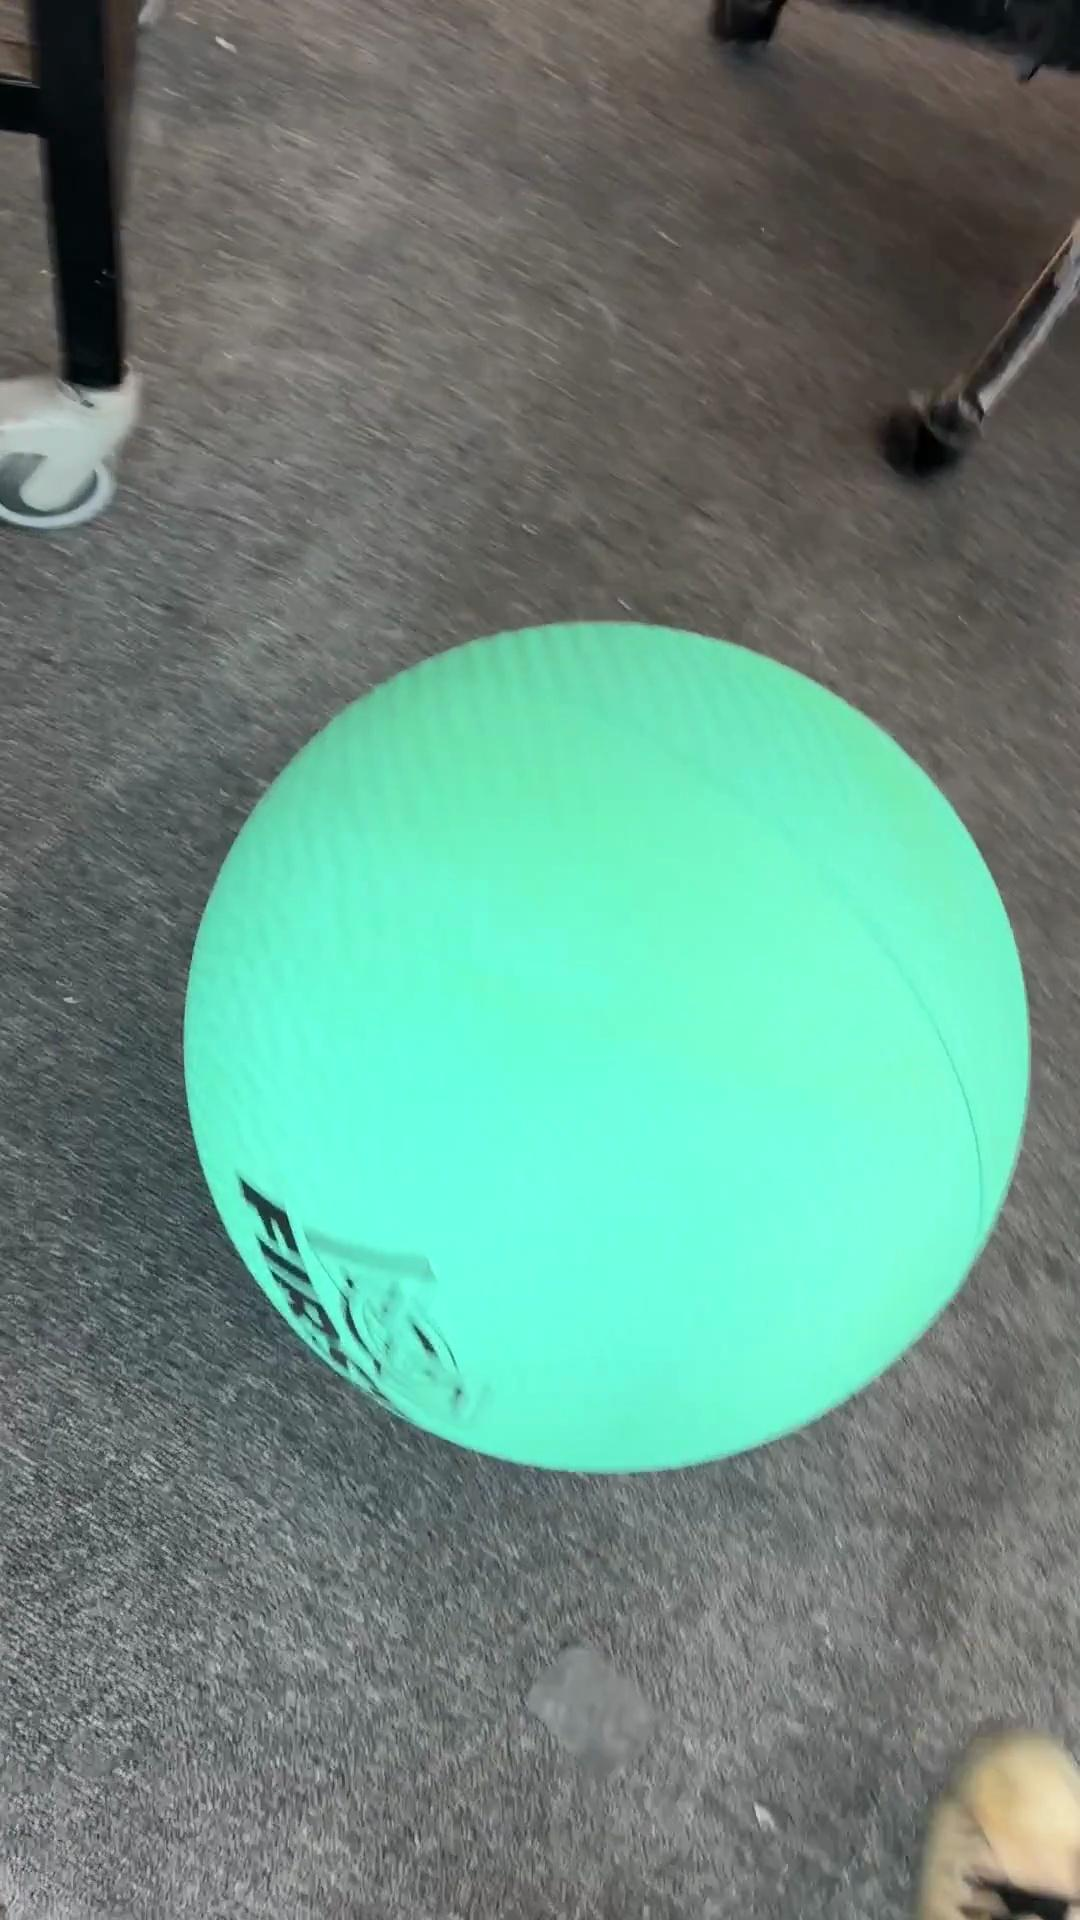ALGAE: (179, 616, 1033, 1476)
